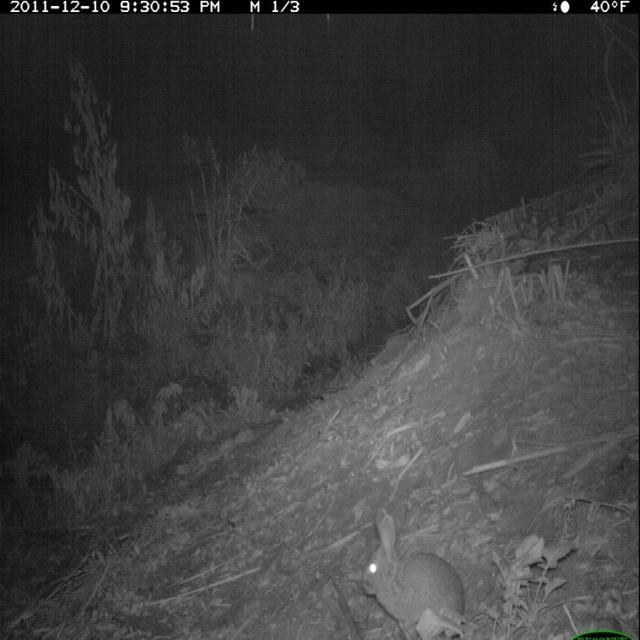rabbit: (358, 506, 467, 640)
